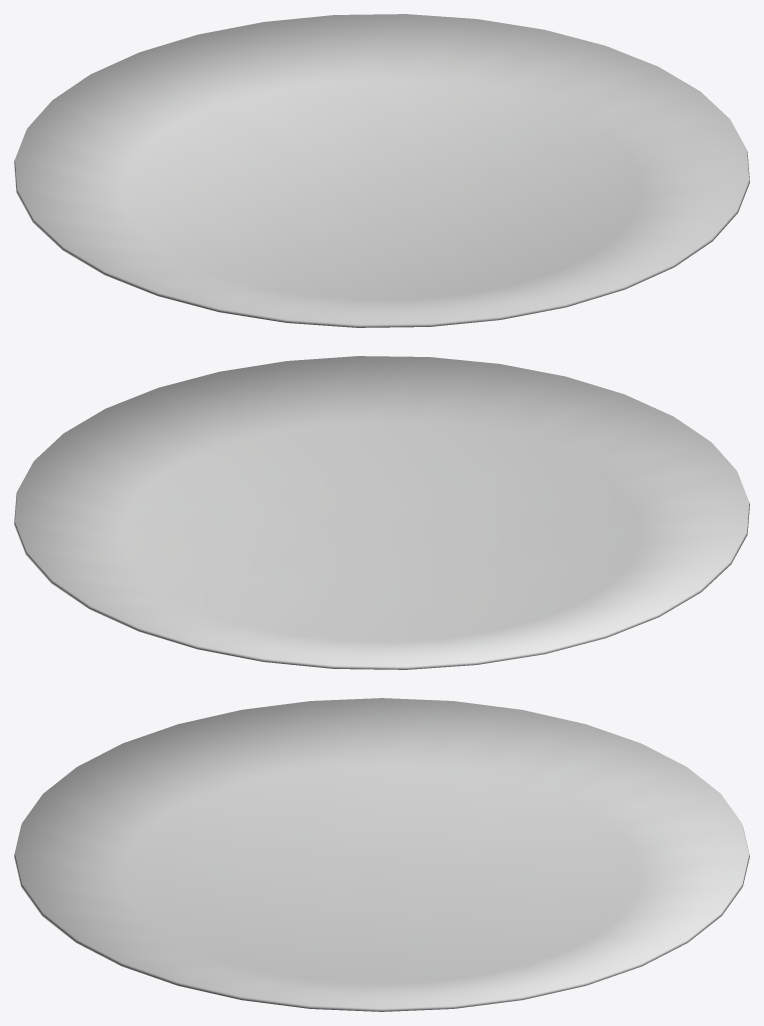
Rendered from Plate.fbx.
3 renders of one model, top to bottom at view 1: azimuth 30°, elevation 25°; view 2: azimuth 150°, elevation 25°; view 3: azimuth 270°, elevation 25°, orthographic.
Visible parts, largest first — view 1: Plate; view 2: Plate; view 3: Plate.
Part boxes in pixels (x1,y1,x2,y2): Plate: [14, 14, 749, 327]; Plate: [14, 356, 749, 669]; Plate: [14, 698, 749, 1011].
Size of the model in its own units: 1055 by 55.92 by 1055.
